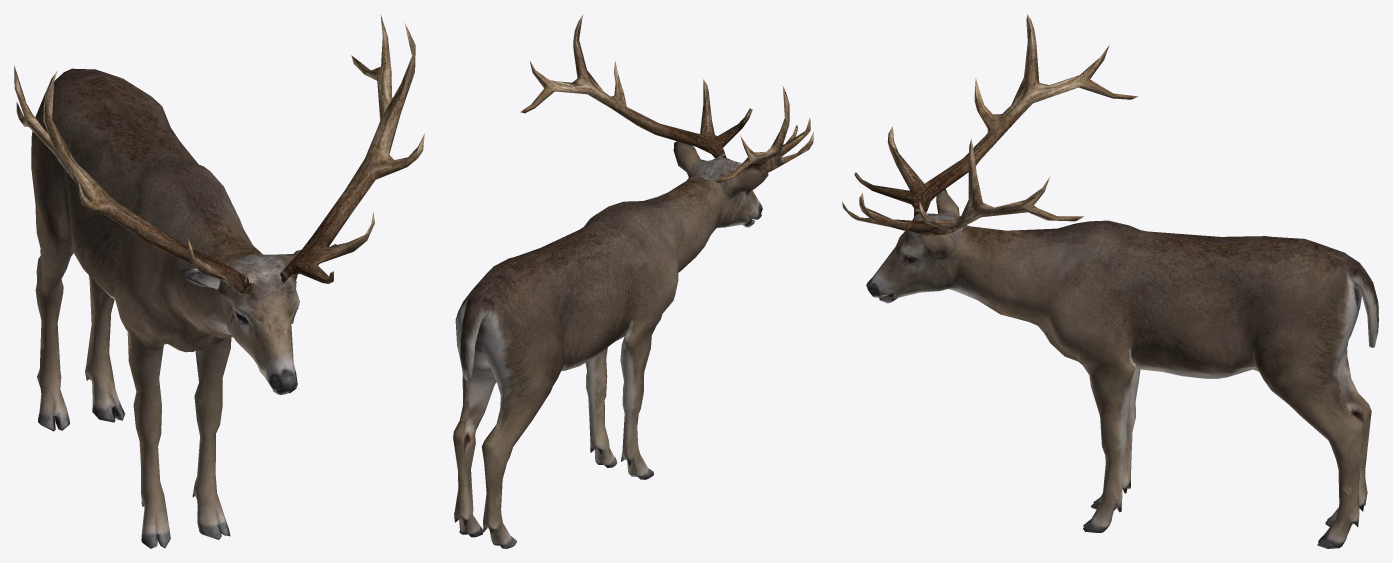
File: deer.glb
3 views of the same model, side by side, from view 1: azimuth 30°, elevation 25°; view 2: azimuth 150°, elevation 25°; view 3: azimuth 270°, elevation 25° (orthographic). The views are drawn at different scales.
Visible parts, largest first — view 1: Deer_M001_M_Deer001_0_M_Deer001_0, Deer_M001_M_DeerAntler001_0_M_DeerAntler001_0; view 2: Deer_M001_M_Deer001_0_M_Deer001_0, Deer_M001_M_DeerAntler001_0_M_DeerAntler001_0; view 3: Deer_M001_M_Deer001_0_M_Deer001_0, Deer_M001_M_DeerAntler001_0_M_DeerAntler001_0.
Boxes of the visible parts, left/top/right/bottom form: Deer_M001_M_Deer001_0_M_Deer001_0: left=31, top=68, right=336, bottom=548; Deer_M001_M_DeerAntler001_0_M_DeerAntler001_0: left=14, top=15, right=424, bottom=295; Deer_M001_M_Deer001_0_M_Deer001_0: left=453, top=141, right=768, bottom=548; Deer_M001_M_DeerAntler001_0_M_DeerAntler001_0: left=520, top=14, right=813, bottom=182; Deer_M001_M_Deer001_0_M_Deer001_0: left=866, top=189, right=1378, bottom=548; Deer_M001_M_DeerAntler001_0_M_DeerAntler001_0: left=842, top=14, right=1138, bottom=235.
Bounding box in the file's own units: 1.48 × 2.19 × 2.45.
2 materials, 2 textured.
